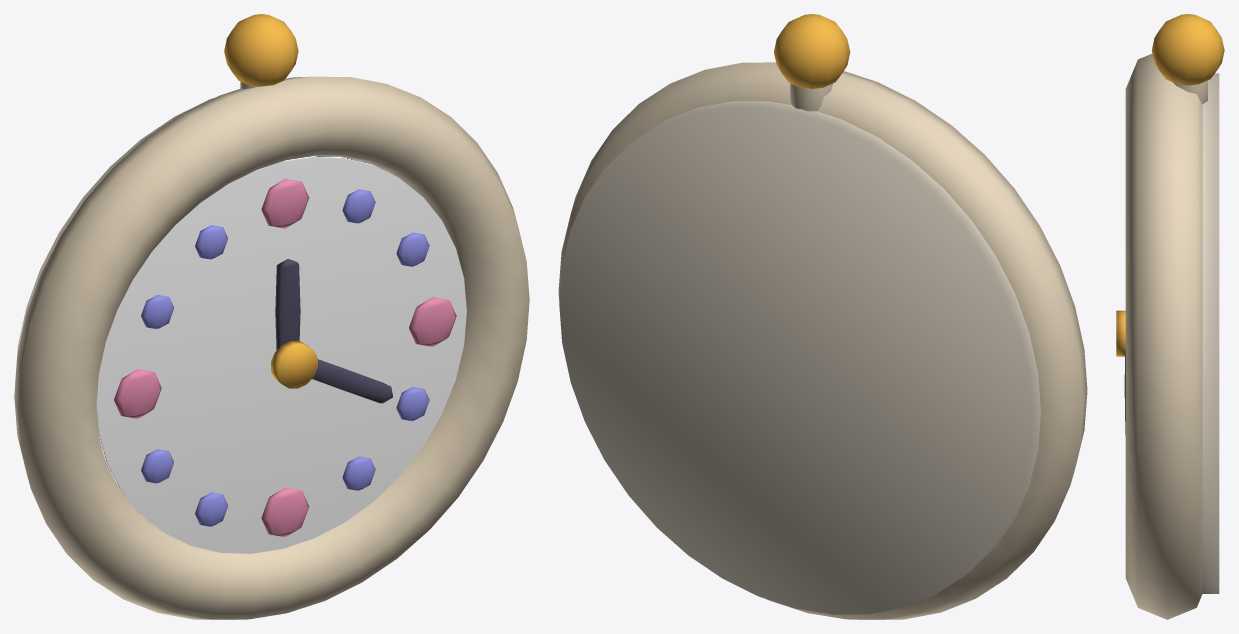
Rendered from wallclock.glb.
3 views of the same model, side by side, from view 1: azimuth 30°, elevation 25°; view 2: azimuth 150°, elevation 25°; view 3: azimuth 270°, elevation 25° (orthographic). The views are drawn at different scales.
Parts seen in each view (by area): view 1: wallclock; view 2: wallclock; view 3: wallclock.
Boxes of the visible parts, x1,y1,x2,y2 form: wallclock: (14,14,529,619); wallclock: (558,14,1087,619); wallclock: (1116,14,1224,619).
Bounding box in the file's own units: 0.55 × 0.61 × 0.104.
Materials: 1 (1 with a texture image).
